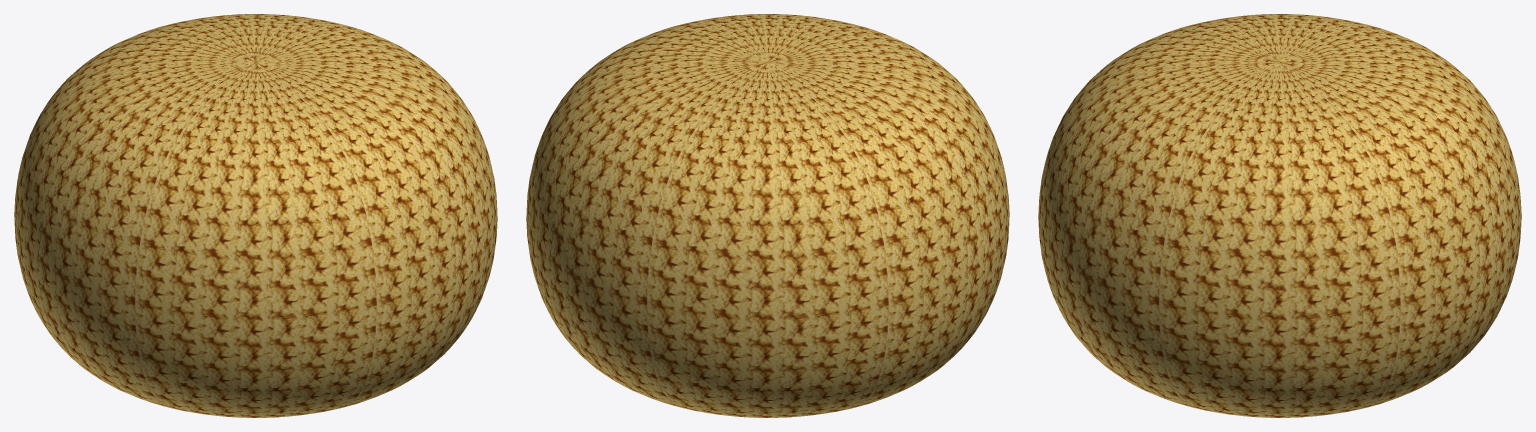
The model's file is MTNA2948.obj.
3 renders of one model, left to right at view 1: azimuth 30°, elevation 25°; view 2: azimuth 150°, elevation 25°; view 3: azimuth 270°, elevation 25°, orthographic.
Parts seen in each view (by area): view 1: not_clear_obj_0_v6; view 2: not_clear_obj_0_v6; view 3: not_clear_obj_0_v6.
Part boxes in pixels (bbox=[...]): not_clear_obj_0_v6: bbox=[14, 14, 497, 417]; not_clear_obj_0_v6: bbox=[526, 14, 1009, 417]; not_clear_obj_0_v6: bbox=[1038, 14, 1521, 417].
Size of what is drawn, in the model's own units: 50.8 by 35.56 by 50.8.
